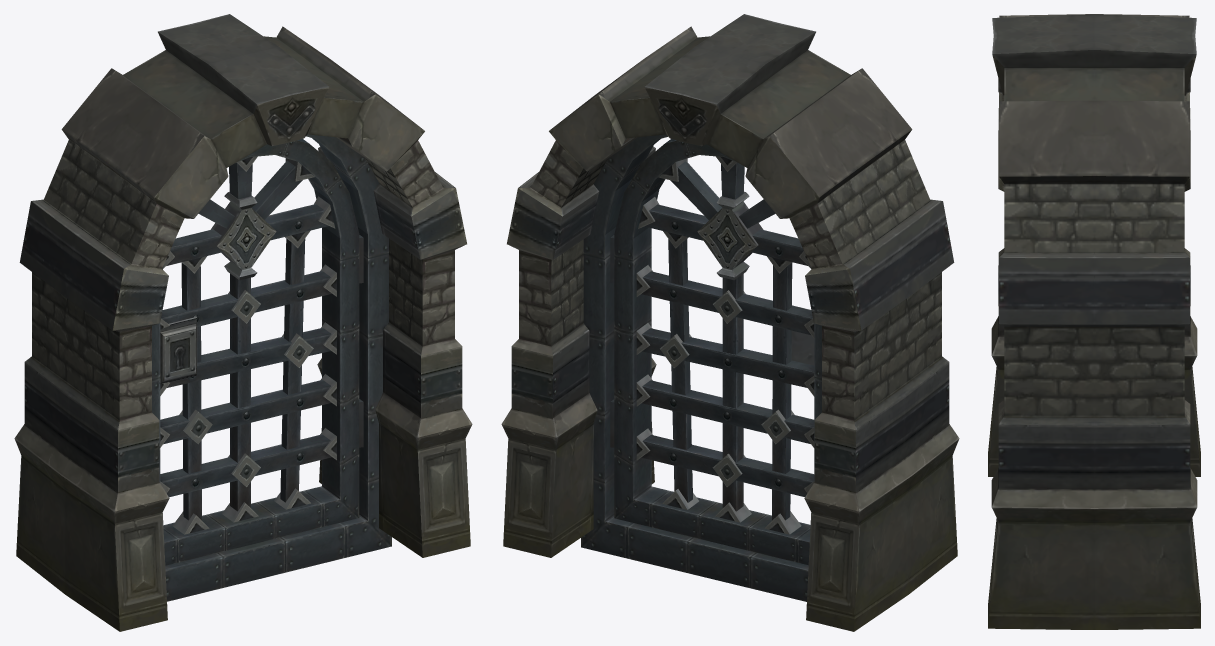
File: BD_Prison_Door_01.FBX
3 renders of one model, left to right at view 1: azimuth 30°, elevation 25°; view 2: azimuth 150°, elevation 25°; view 3: azimuth 270°, elevation 25°, orthographic. The views are drawn at different scales.
Visible parts, largest first — view 1: BD_Prison_Door_01; view 2: BD_Prison_Door_01; view 3: BD_Prison_Door_01.
Part boxes in pixels (left/top/right/bottom): BD_Prison_Door_01: left=14, top=14, right=472, bottom=631; BD_Prison_Door_01: left=501, top=14, right=959, bottom=631; BD_Prison_Door_01: left=988, top=14, right=1200, bottom=629.
Size of the model in its own units: 416 by 566 by 206.
